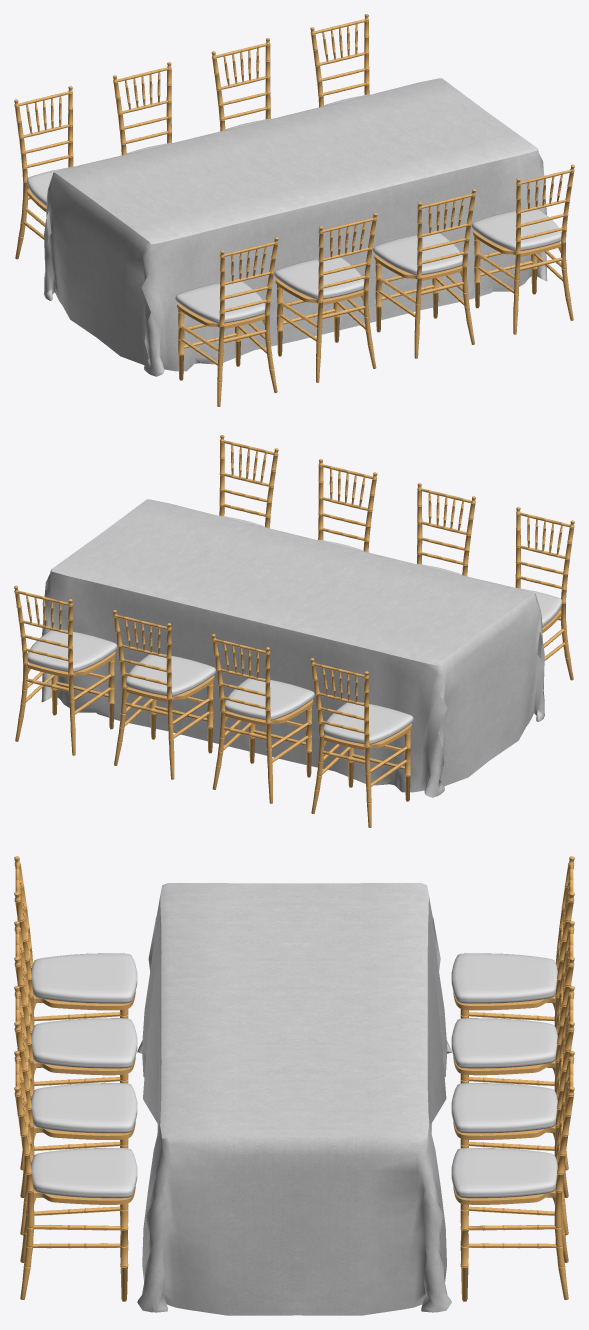
Rendered from banquet-8pax-243x121.glb.
3 views of the same model, one above another, from view 1: azimuth 30°, elevation 25°; view 2: azimuth 150°, elevation 25°; view 3: azimuth 270°, elevation 25° (orthographic). The views are drawn at different scales.
Visible parts, largest first — view 1: 8pax; view 2: 8pax; view 3: 8pax.
Boxes of the visible parts, <box> form: 8pax: <box>14,14,574,406</box>; 8pax: <box>14,435,574,827</box>; 8pax: <box>14,856,574,1315</box>.
Size of the model in its own units: 241 by 90.82 by 216.
Materials: 3 (1 with a texture image).
